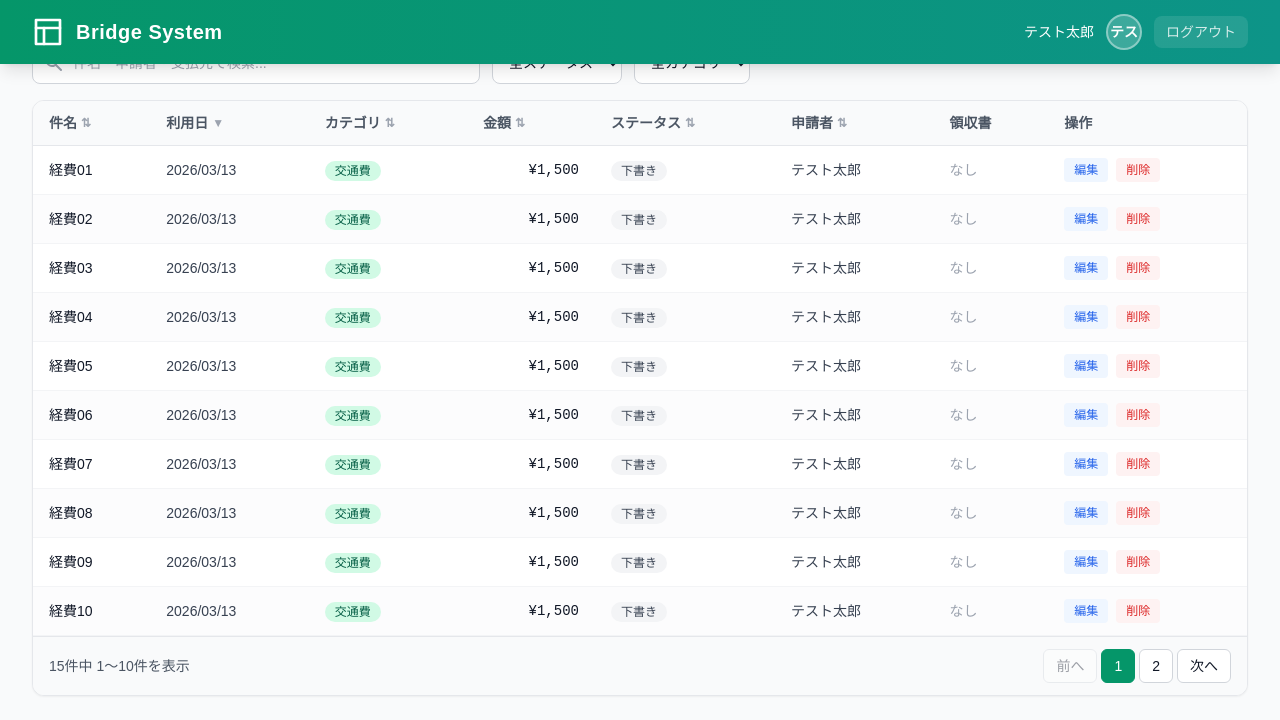
ExpenseList › ページネーション › 2ページ目に遷移すると残り5件が表示される
This screenshot has width=1280, height=720.
(page scrolled)
Click the button named "2ページ目": {"x": 1156, "y": 666} [1139, 649, 1173, 683]
(page scrolled)
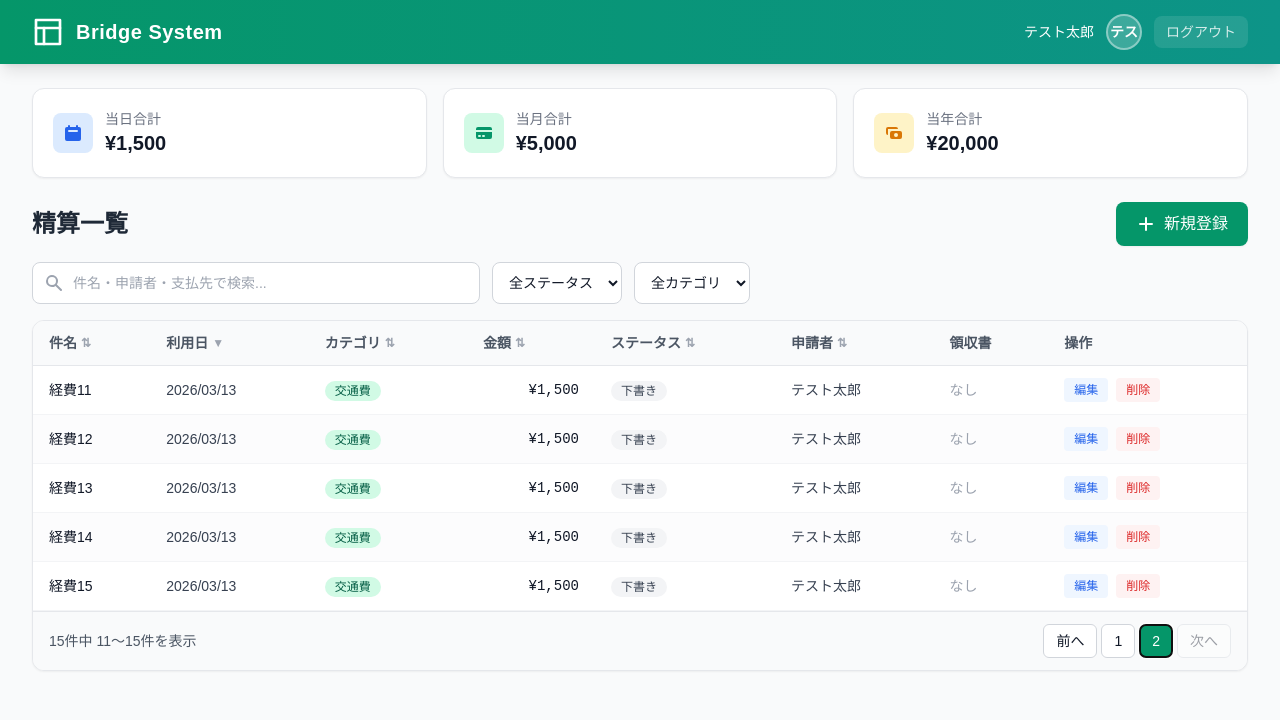
Expected: the text "15件中 11〜15件を表示" is shown, [49, 631, 197, 651]
